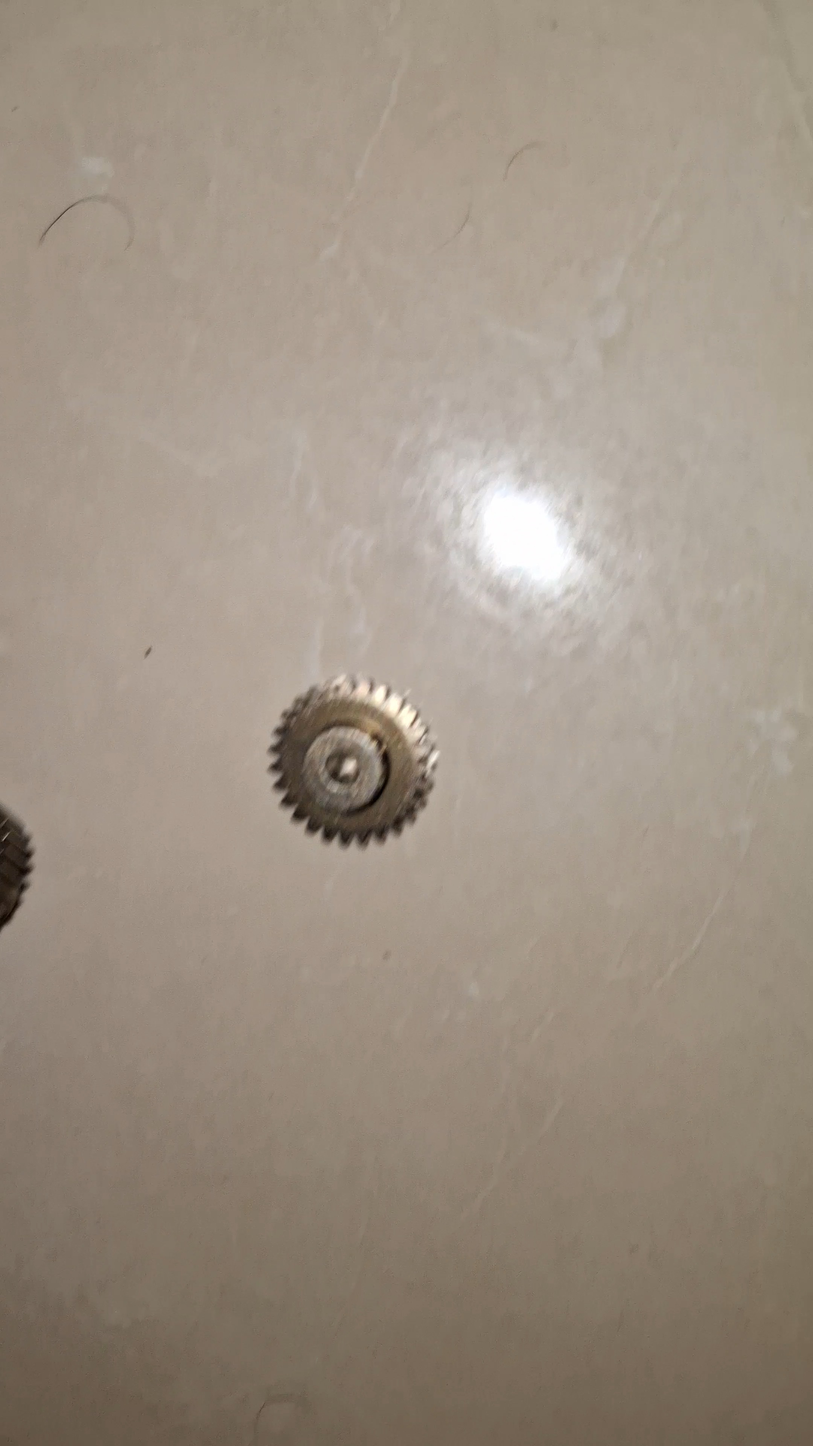spur gear: (271, 676, 437, 844), (0, 805, 32, 927)
